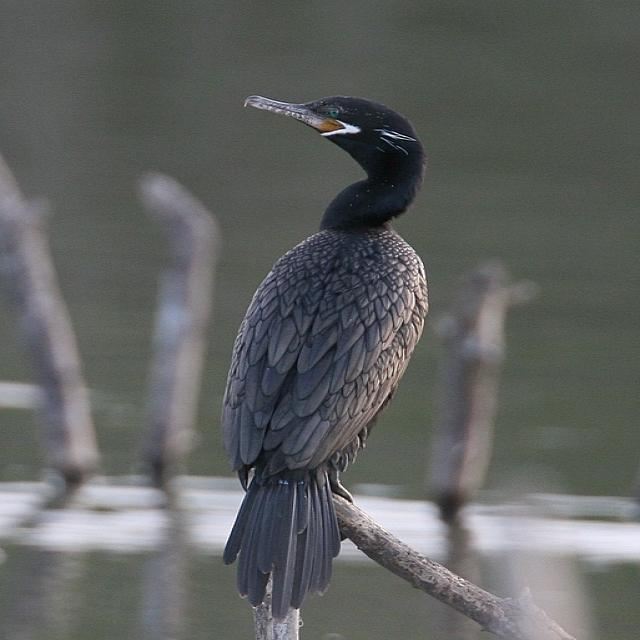bird: (214, 76, 432, 614)
